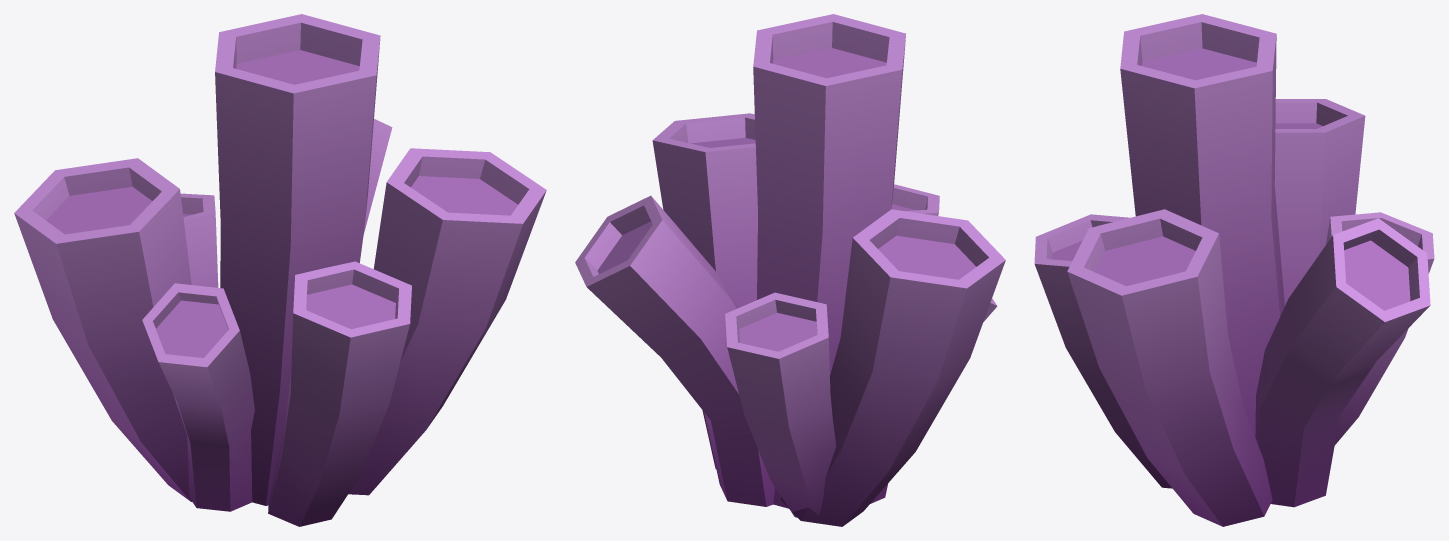
The model's file is CoralReef_07.fbx.
The picture shows the model from 3 angles, left to right: view 1: azimuth 30°, elevation 25°; view 2: azimuth 150°, elevation 25°; view 3: azimuth 270°, elevation 25°; orthographic projection. The views are drawn at different scales.
Visible parts, largest first — view 1: CoralReef_07_LOD0; view 2: CoralReef_07_LOD0; view 3: CoralReef_07_LOD0.
Boxes of the visible parts, bbox=[...] form: CoralReef_07_LOD0: bbox=[14, 14, 546, 526]; CoralReef_07_LOD0: bbox=[575, 14, 1005, 526]; CoralReef_07_LOD0: bbox=[1034, 14, 1434, 526].
Size of what is drawn, in the model's own units: 0.2463 by 0.2533 by 0.2129.
